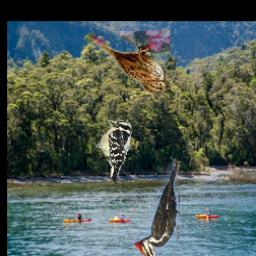Sparrow: (85, 31, 172, 94)
Woodpecker: (133, 153, 180, 256), (89, 119, 132, 186)
